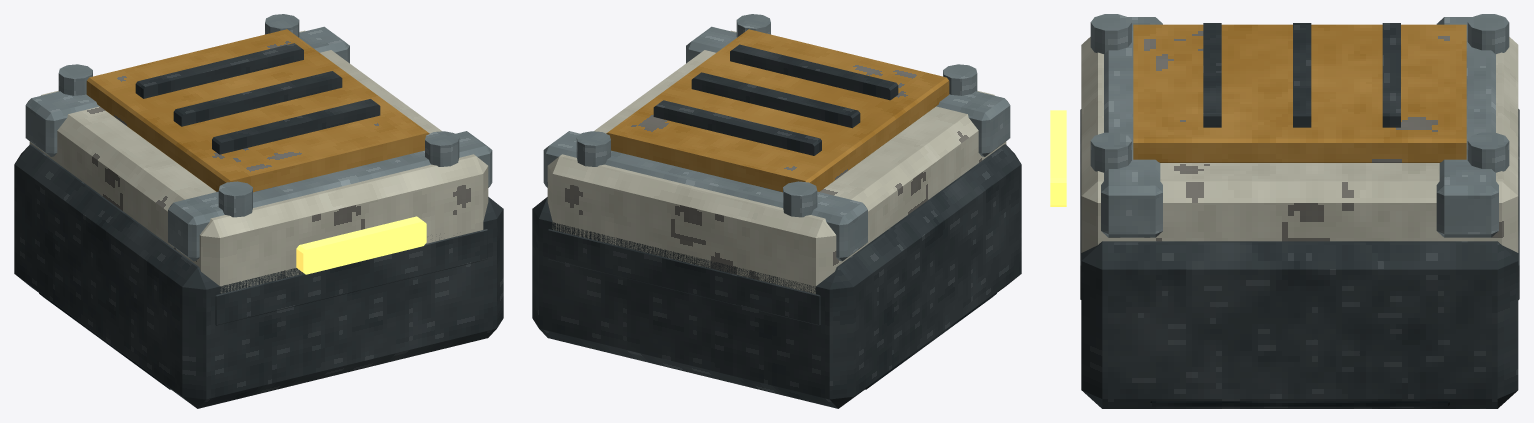
File: capacitor_shoulder.glb
The picture shows the model from 3 angles, left to right: view 1: azimuth 30°, elevation 25°; view 2: azimuth 150°, elevation 25°; view 3: azimuth 270°, elevation 25°; orthographic projection. The views are drawn at different scales.
Visible parts, largest first — view 1: capacitor_shoulder; view 2: capacitor_shoulder; view 3: capacitor_shoulder.
Boxes of the visible parts, left/top/right/bottom form: capacitor_shoulder: left=14, top=14, right=503, bottom=408; capacitor_shoulder: left=532, top=14, right=1021, bottom=408; capacitor_shoulder: left=1050, top=14, right=1519, bottom=408.
Bounding box in the file's own units: 0.19 × 0.1235 × 0.204.
6 materials, 5 textured.
